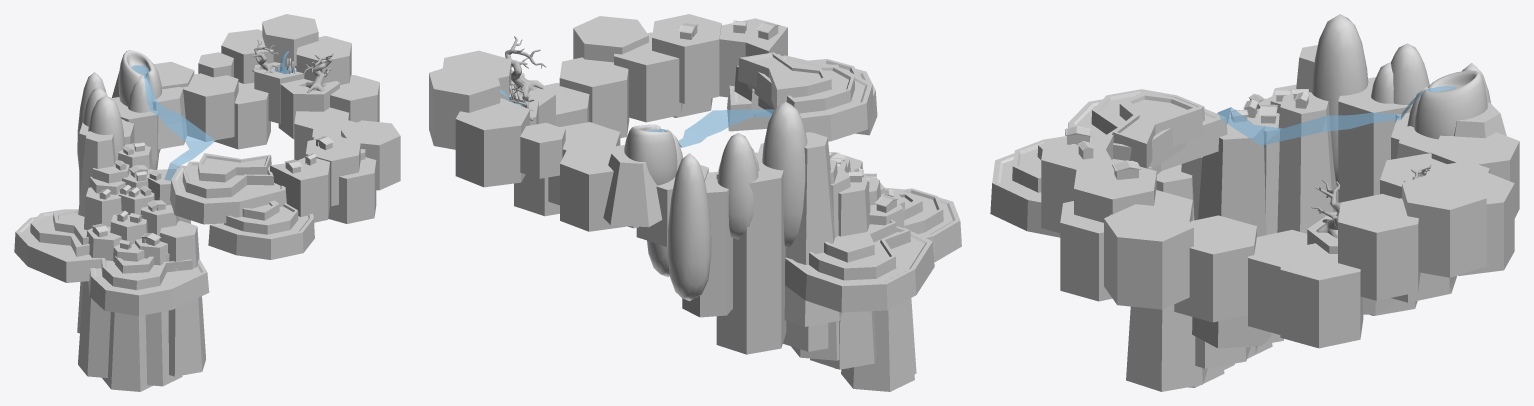
File: BRUME_Blockout_OUTSIDE.fbx
The picture shows the model from 3 angles, left to right: view 1: azimuth 30°, elevation 25°; view 2: azimuth 150°, elevation 25°; view 3: azimuth 270°, elevation 25°; orthographic projection. The views are drawn at different scales.
Visible parts, largest first — view 1: SM_Rizière_001, SM_Rizière_001.003, SM_Rizière_001.002, SM_Rizière_001.004, Cylinder.291, Cylinder.295, Cylinder.166, Cylinder.296, Cylinder.145, Cylinder.147, Cylinder.294, Cylinder.130 (+32 smaller); view 2: SM_Rizière_001.004, Cylinder.124, SM_Rizière_001, Cylinder.133, Cylinder.123, Cylinder.122, Cylinder.296, Cylinder.144, Cylinder.138, Cylinder.127, Cylinder.121, Cylinder.143 (+22 smaller); view 3: SM_Rizière_001, Cylinder.147, Cylinder.150, Cylinder.131, Cylinder.127, Cylinder.132, Cylinder.140, Cylinder.291, Cylinder.142, Cylinder.124, Cylinder.121, SM_Rizière_001.002 (+21 smaller).
Boxes of the visible parts, box(x1,y1,x2,y2) form: SM_Rizière_001: box(170, 153, 286, 224); SM_Rizière_001.003: box(88, 253, 209, 316); SM_Rizière_001.002: box(208, 200, 314, 259); SM_Rizière_001.004: box(14, 209, 105, 282); Cylinder.291: box(159, 221, 205, 376); Cylinder.295: box(102, 243, 152, 391); Cylinder.166: box(182, 73, 238, 141); Cylinder.296: box(78, 226, 121, 377); Cylinder.145: box(270, 157, 329, 222); Cylinder.147: box(341, 120, 400, 190); Cylinder.294: box(135, 239, 182, 386); Cylinder.130: box(214, 82, 270, 149); SM_Rizière_001.004: box(785, 220, 934, 312); Cylinder.124: box(716, 152, 786, 354); SM_Rizière_001: box(734, 52, 873, 141); Cylinder.133: box(455, 98, 529, 187); Cylinder.123: box(667, 153, 711, 300); Cylinder.122: box(784, 132, 841, 326); Cylinder.296: box(841, 197, 914, 391); Cylinder.144: box(652, 14, 721, 103); Cylinder.138: box(560, 142, 625, 231); Cylinder.127: box(429, 63, 500, 149); Cylinder.121: box(762, 102, 807, 247); Cylinder.143: box(614, 32, 682, 122); SM_Rizière_001: box(1068, 89, 1227, 174); Cylinder.147: box(1104, 204, 1193, 309); Cylinder.150: box(1192, 116, 1271, 348); Cylinder.131: box(1280, 243, 1363, 348); Cylinder.127: box(1402, 171, 1486, 277); Cylinder.132: box(1338, 194, 1420, 300); Cylinder.140: box(1277, 92, 1338, 233); Cylinder.291: box(1126, 164, 1207, 391); Cylinder.142: box(1174, 215, 1256, 322); Cylinder.124: box(1338, 77, 1417, 315); Cylinder.121: box(1311, 14, 1368, 186); SM_Rizière_001.002: box(990, 136, 1152, 237).
Size of the model in its own units: 17721 by 11489 by 15081.
